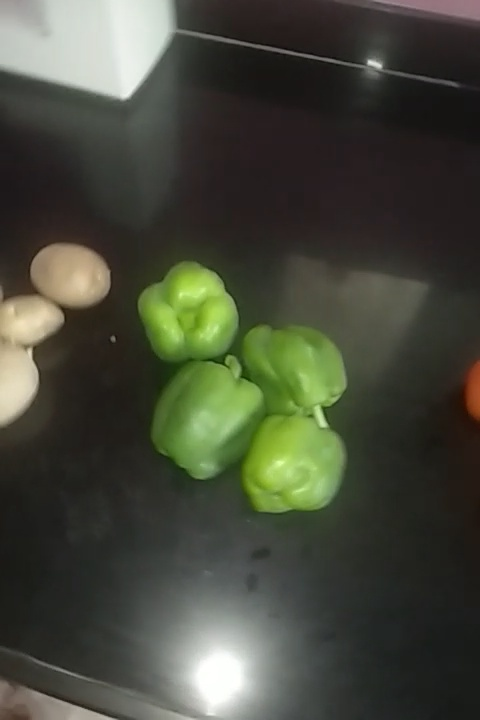capsicum: (146, 353, 260, 475), (233, 313, 364, 417), (248, 398, 355, 520), (136, 261, 237, 369)
potato: (26, 245, 113, 311), (1, 293, 74, 351), (1, 348, 43, 434)
